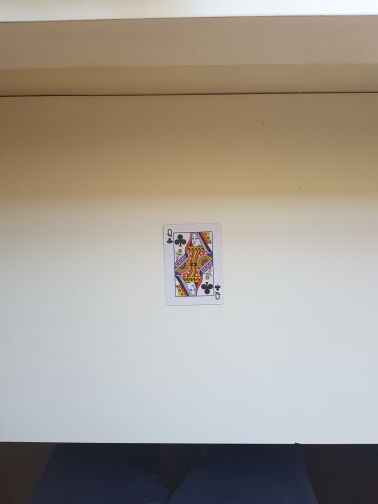queen: (162, 220, 225, 307)
